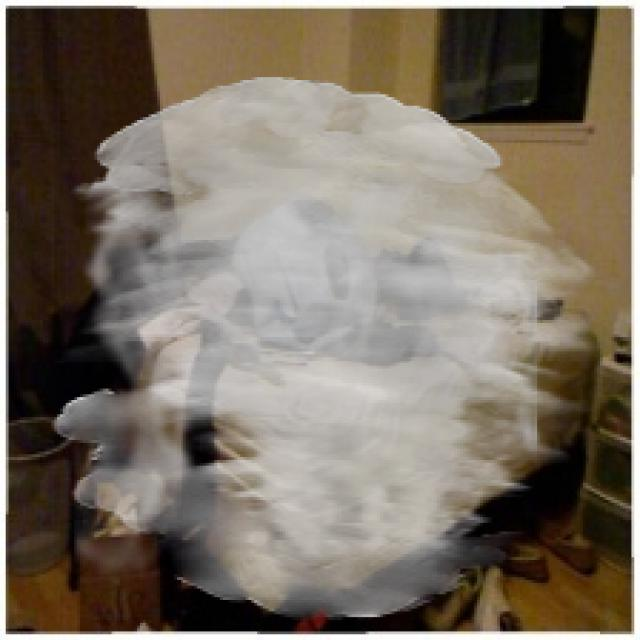smoke: (51, 77, 603, 620)
